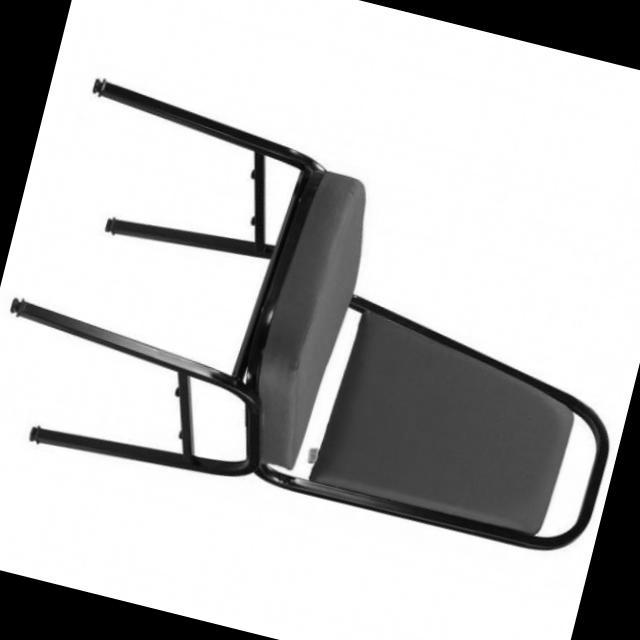chair: (0, 68, 640, 586)
